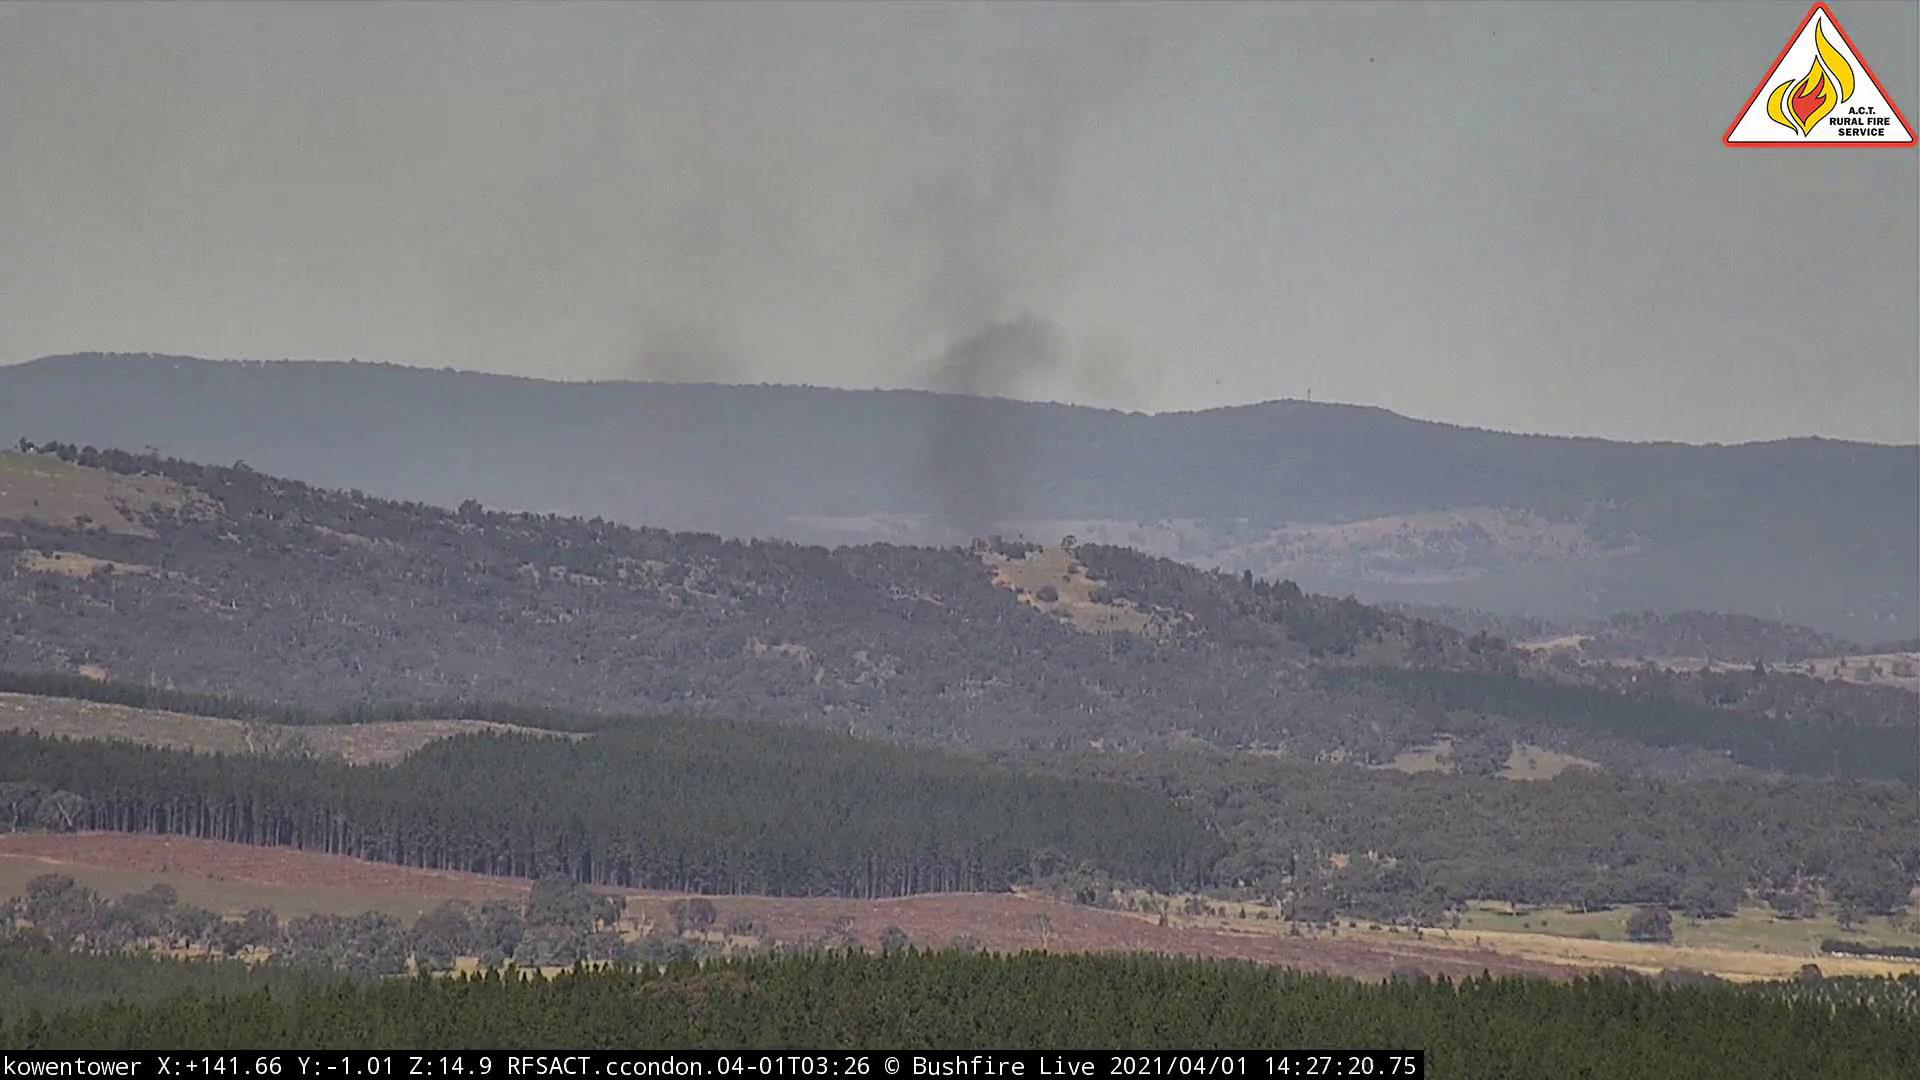Smoke: (433, 108, 1208, 576)
